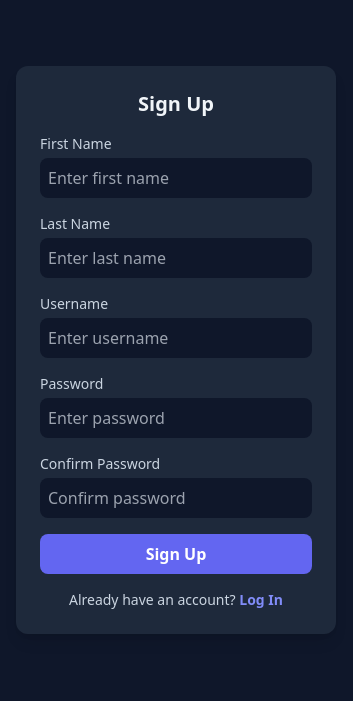
Test: LoginForma component › shows validation errors for registration form
The width and height of the screenshot is (353, 701).
Click the button "Sign Up" at (176, 554), box x1=40 y1=534 x2=312 y2=574
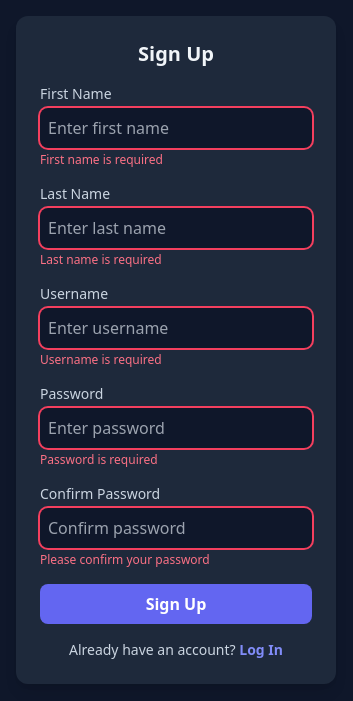
Result: the text "First name is required" is shown at x1=40 y1=151 x2=163 y2=168
Result: the text "Last name is required" is shown at x1=40 y1=251 x2=162 y2=268
Result: the text "Username is required" is shown at x1=40 y1=351 x2=162 y2=368
